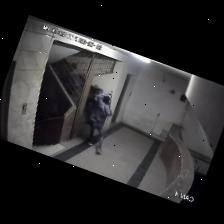person: (86, 92, 111, 154)
